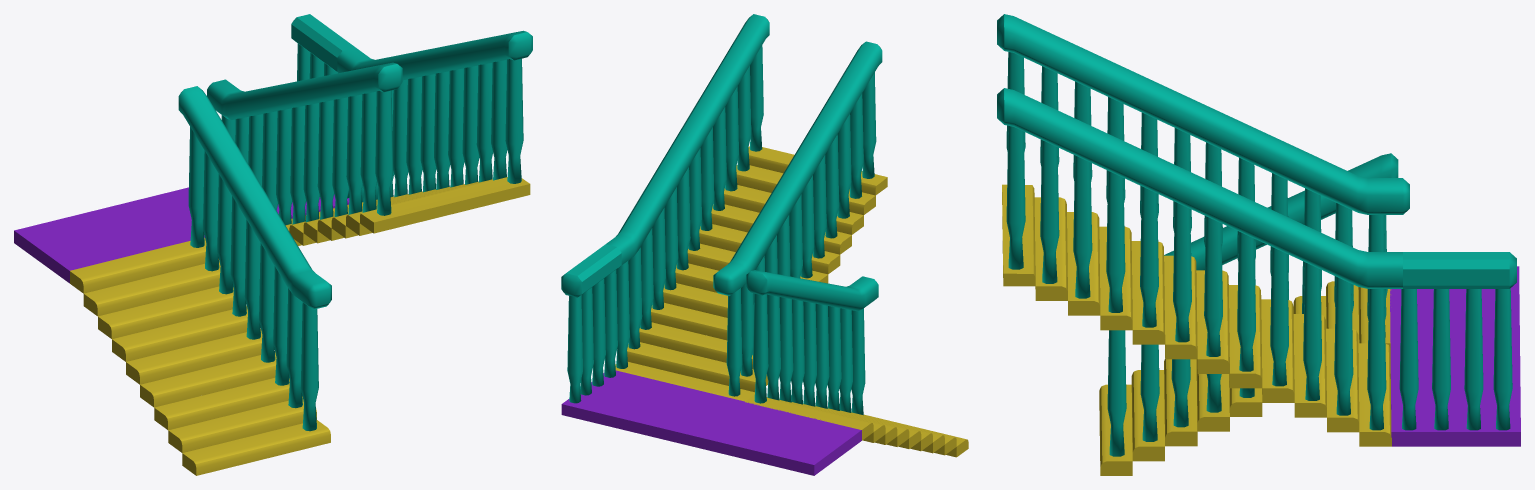
The model's file is SM_StairCase_4.2.fbx.
3 views of the same model, side by side, from view 1: azimuth 30°, elevation 25°; view 2: azimuth 150°, elevation 25°; view 3: azimuth 270°, elevation 25° (orthographic). The views are drawn at different scales.
Parts seen in each view (by area): view 1: SM_Staircase_4_2; view 2: SM_Staircase_4_2; view 3: SM_Staircase_4_2.
Boxes of the visible parts, bbox=[...] form: SM_Staircase_4_2: bbox=[14, 14, 532, 475]; SM_Staircase_4_2: bbox=[561, 14, 968, 475]; SM_Staircase_4_2: bbox=[997, 14, 1520, 475].
Size of the model in its own units: 616 by 798 by 809.
